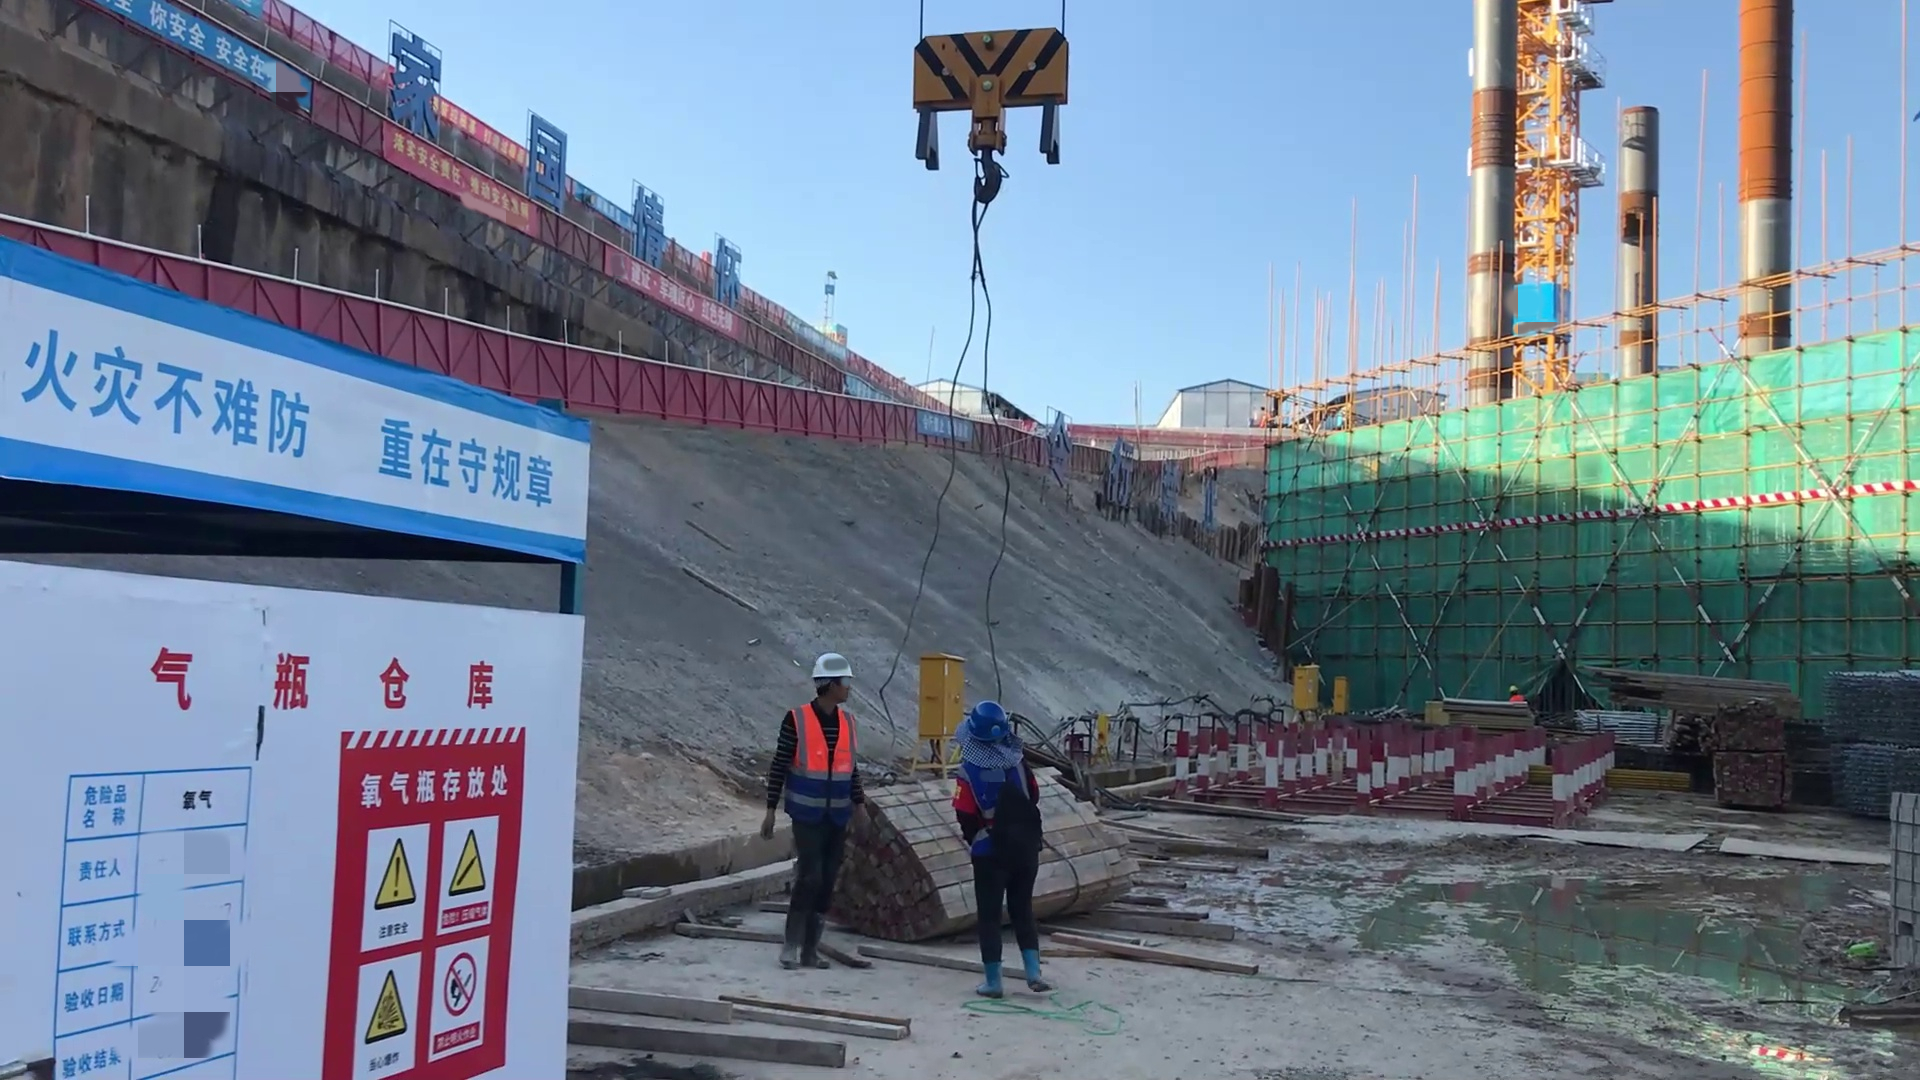brick: (1871, 793, 1920, 960)
ebox: (906, 649, 964, 746), (1290, 661, 1325, 712), (1333, 674, 1352, 718)
fence: (633, 355, 796, 433), (799, 386, 922, 449)
helmet: (800, 652, 860, 698), (956, 701, 1009, 750), (1504, 682, 1515, 688)
hook: (913, 33, 1073, 179)
person: (933, 690, 1065, 1012), (769, 636, 859, 964), (1499, 678, 1528, 706)
scaffold: (1815, 660, 1919, 774)
slogan: (20, 328, 582, 498), (317, 783, 507, 1080), (81, 1, 277, 137), (354, 130, 569, 244)
vest: (776, 704, 852, 789), (1507, 691, 1524, 702)
wood: (1581, 659, 1784, 733)
